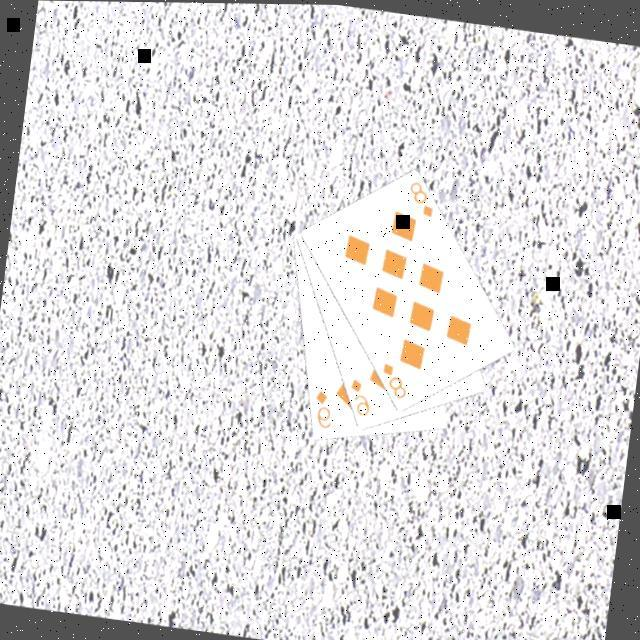6D: (306, 383, 337, 430)
8D: (374, 356, 411, 400), (401, 175, 438, 219)
9D: (341, 372, 374, 417)
